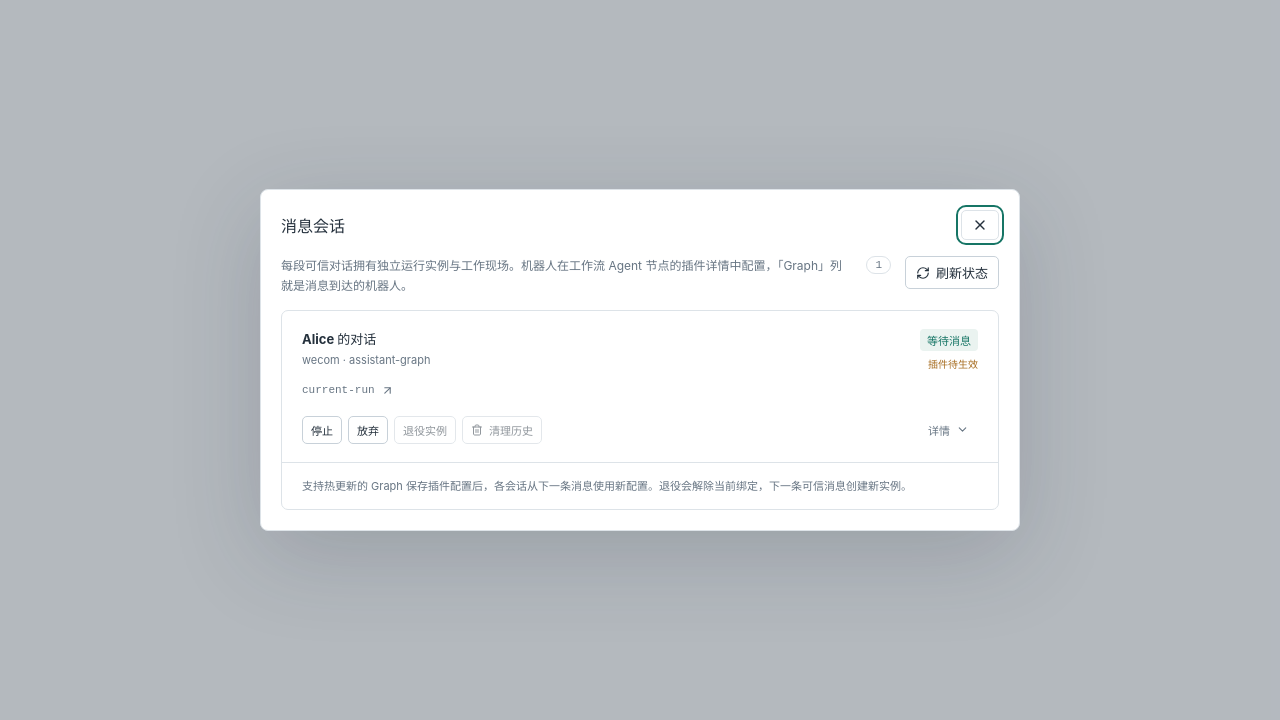
Test: message session management › shows server plugin state pending without claiming it has applied
The width and height of the screenshot is (1280, 720).
Expected: the message with class "channels-plugin-state" reads "插件待生效", top-left (928, 358), bottom-right (978, 370)
Click the button "详情" at (948, 430), box top-left (919, 416), bottom-right (978, 444)
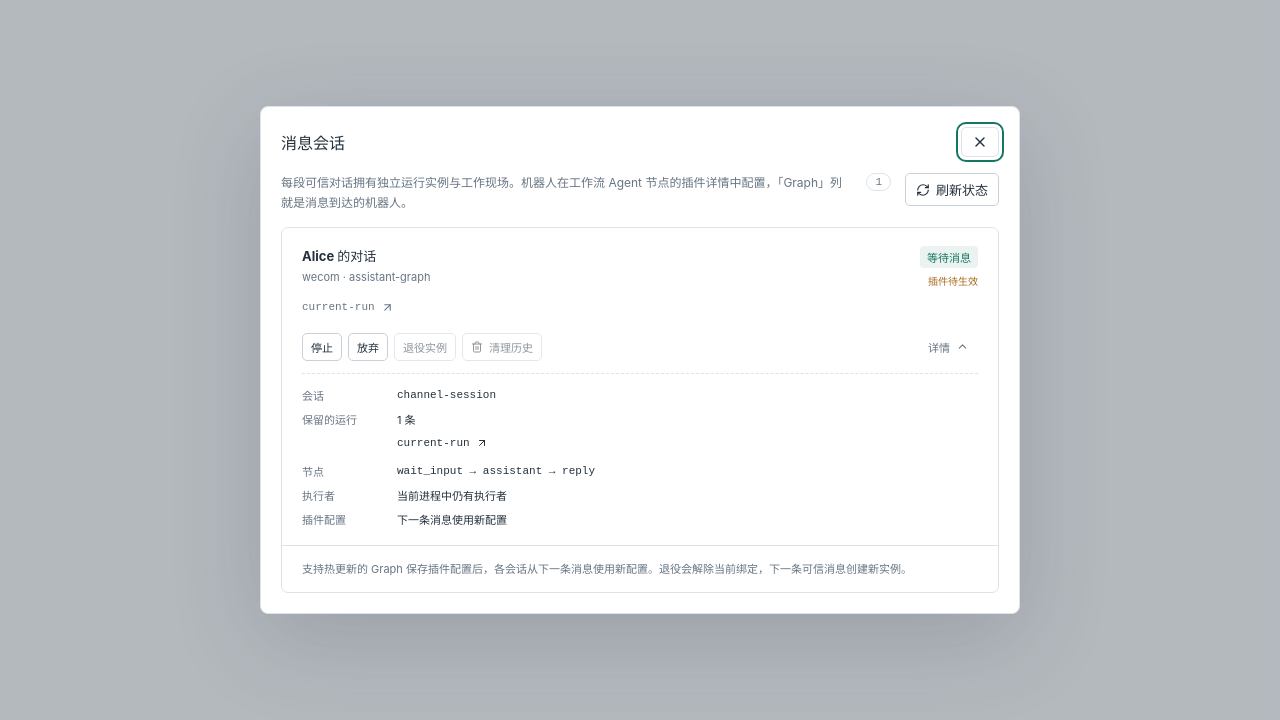
Now the element with class "channels-instance-details" shows "下一条消息使用新配置", box top-left (397, 513), bottom-right (507, 527)
